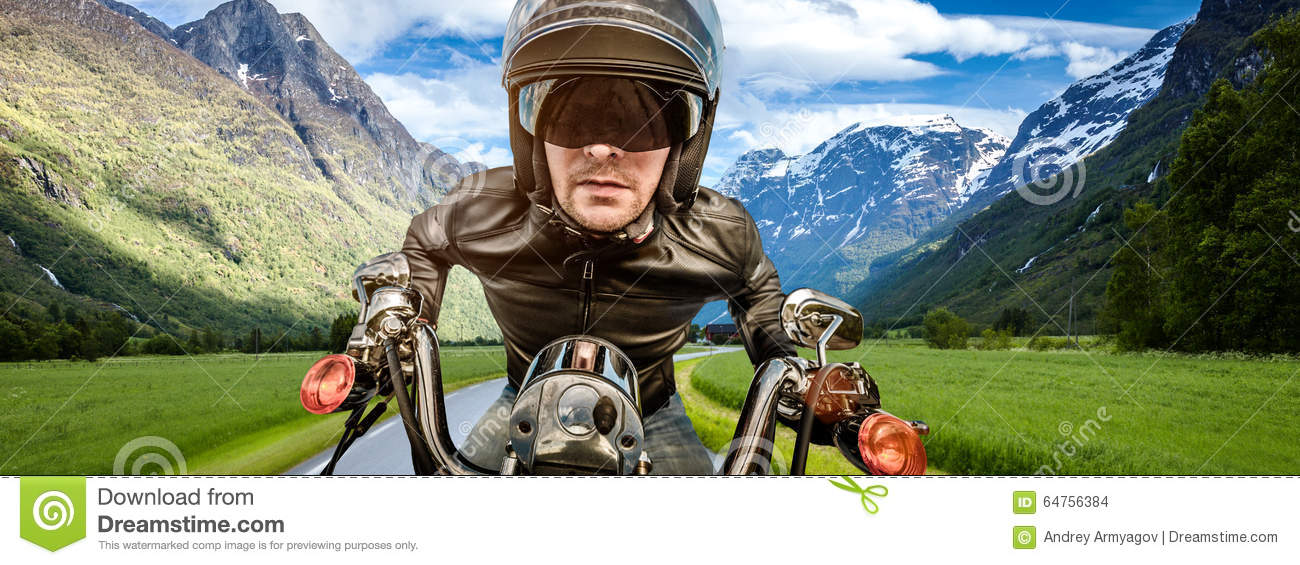helmet: (507, 1, 714, 208)
